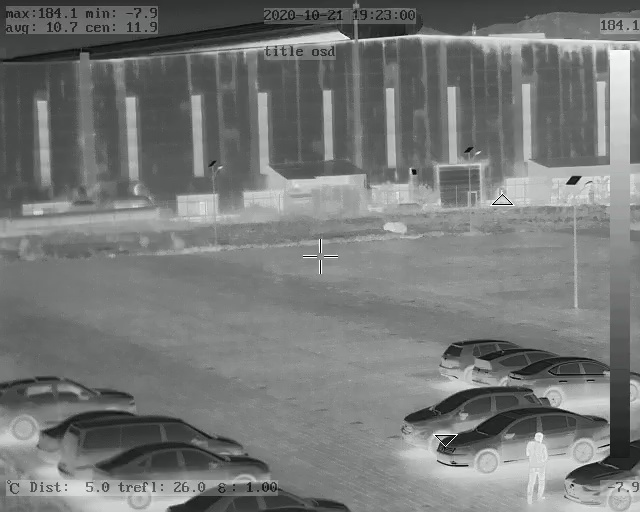person: (524, 432, 547, 504)
vehicle: (434, 409, 609, 474), (54, 415, 245, 474), (101, 444, 272, 505), (4, 378, 137, 436), (401, 389, 546, 436), (562, 442, 640, 508), (510, 356, 609, 401), (459, 346, 518, 383), (438, 340, 478, 377)
